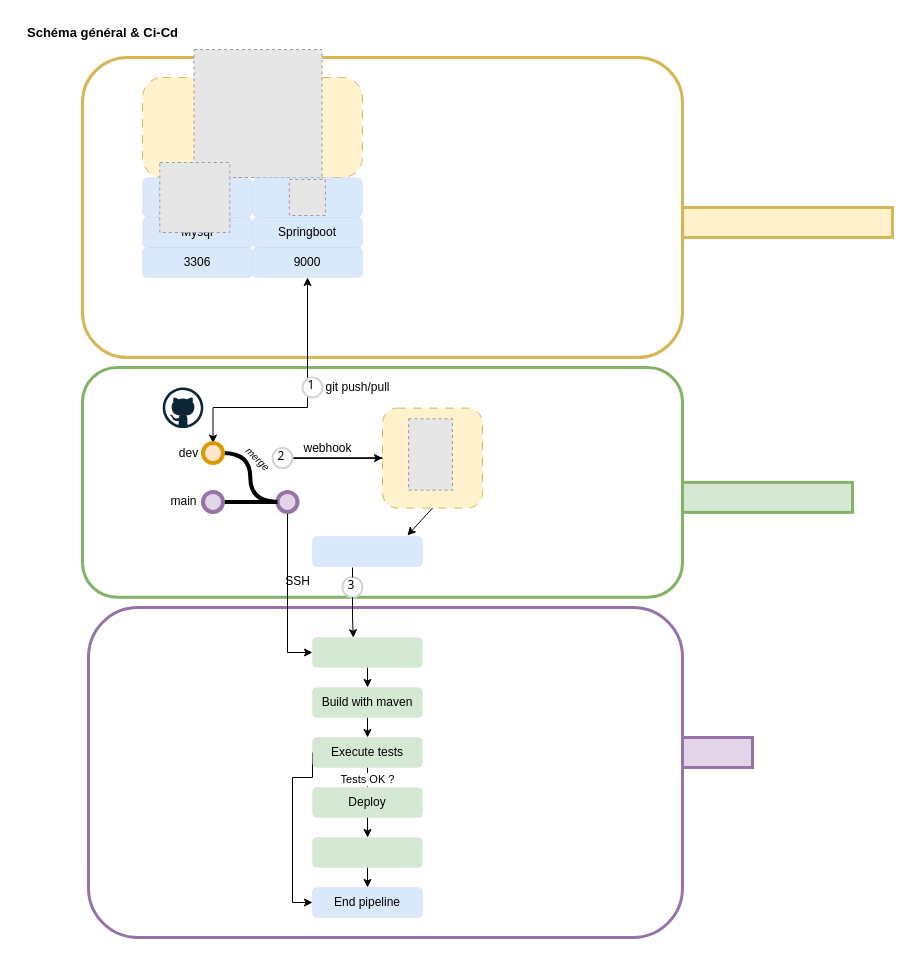
The diagram is 911 pixels wide and 963 high, and some of its shapes have lost their labels. Grey dashed boxes stand in for pictures. Here are the shapes that lost their labels. From the top down, the centre of each, then its label:
point (787, 222): Environnement de développement
point (767, 496): Opérations de déploiement
point (367, 551): Start Pipeline
point (367, 652): Checkout
point (717, 752): Pipeline
point (367, 852): Clean workspace
